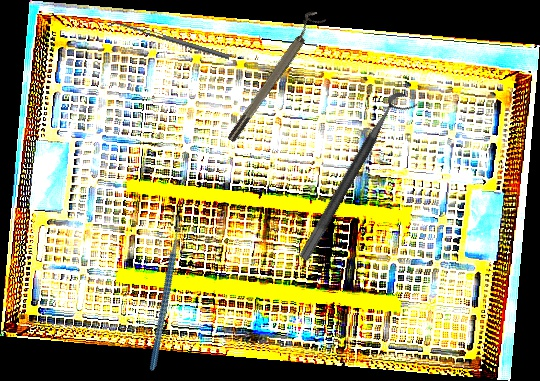Chopper: (99, 208, 227, 372)
Fixation Ring: (297, 88, 419, 270), (219, 7, 327, 145)
Spatula Surgical: (107, 18, 231, 65)
